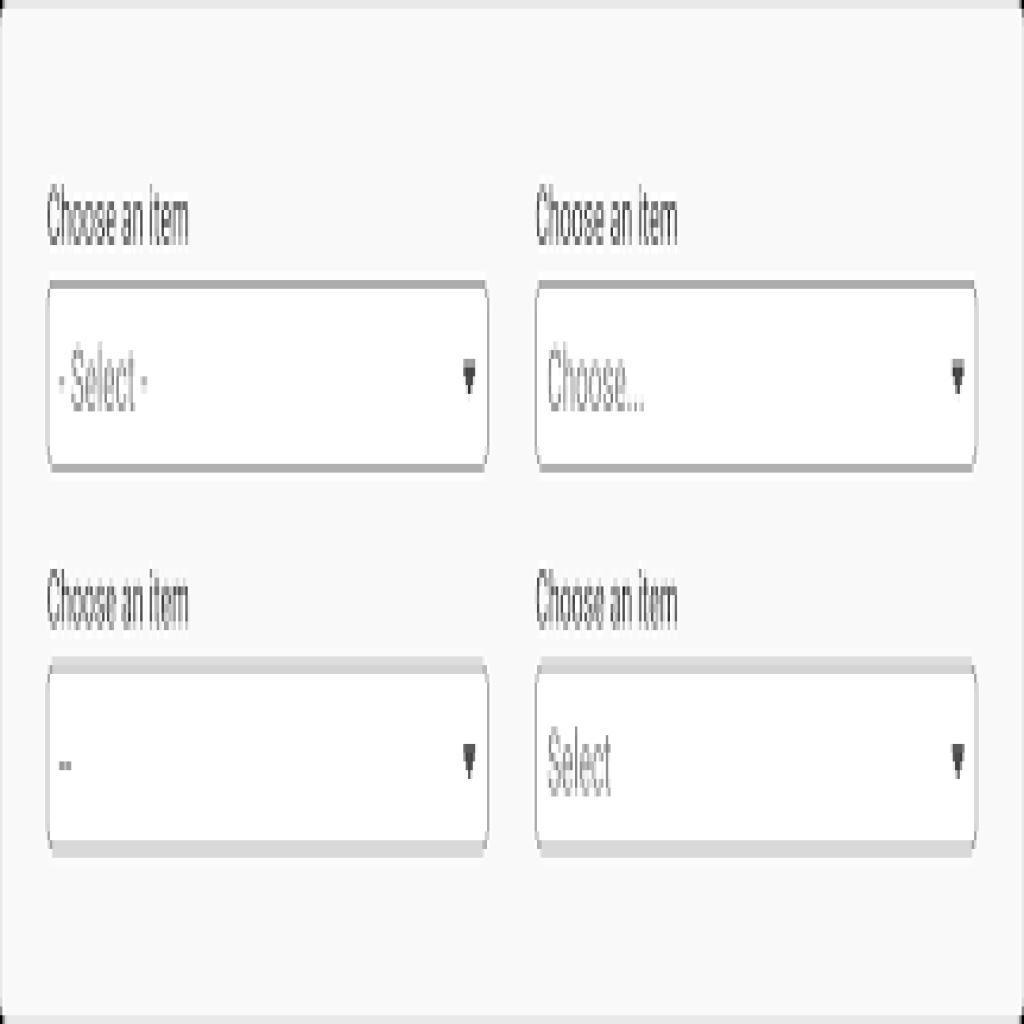dropdown: (536, 656, 982, 858), (43, 656, 490, 855), (533, 279, 984, 472), (51, 279, 494, 475)
